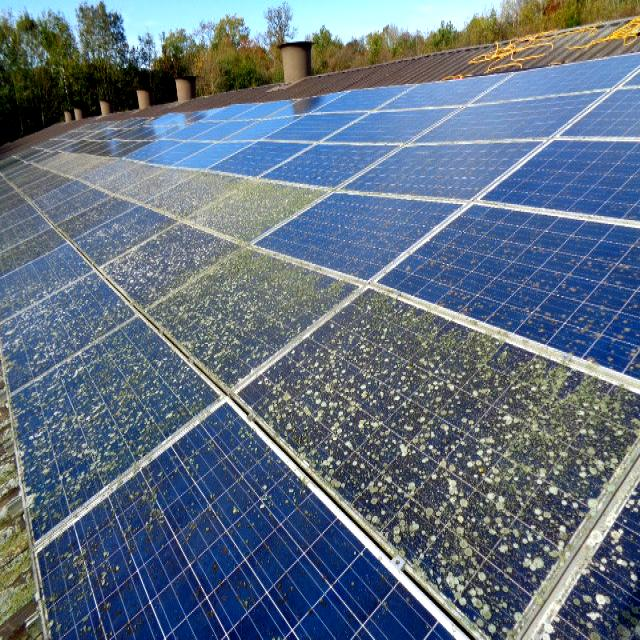dust: (319, 394, 640, 484), (100, 422, 280, 548), (16, 282, 115, 454), (1, 178, 202, 259), (536, 218, 638, 364), (318, 323, 484, 396), (165, 250, 248, 388)
